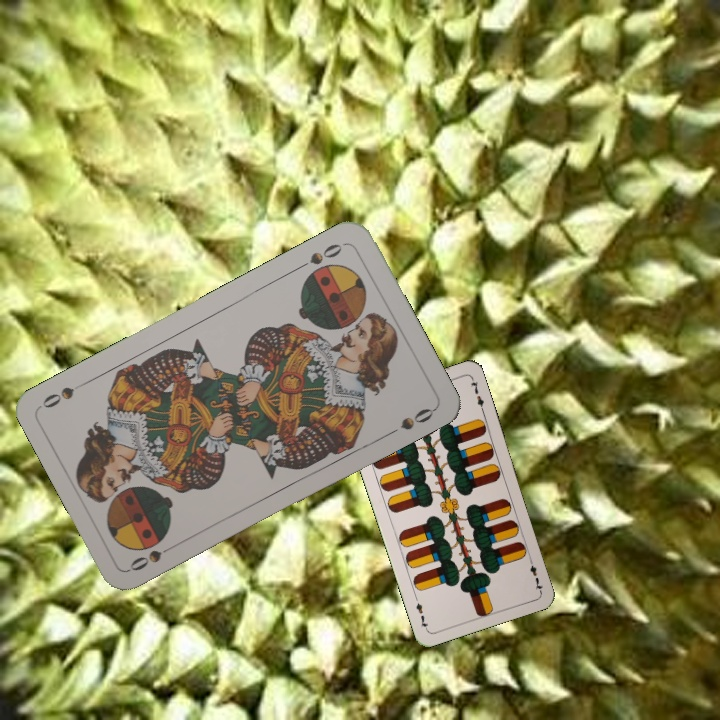E7: (525, 554, 545, 594)
SO: (125, 539, 180, 574), (293, 239, 348, 272)
